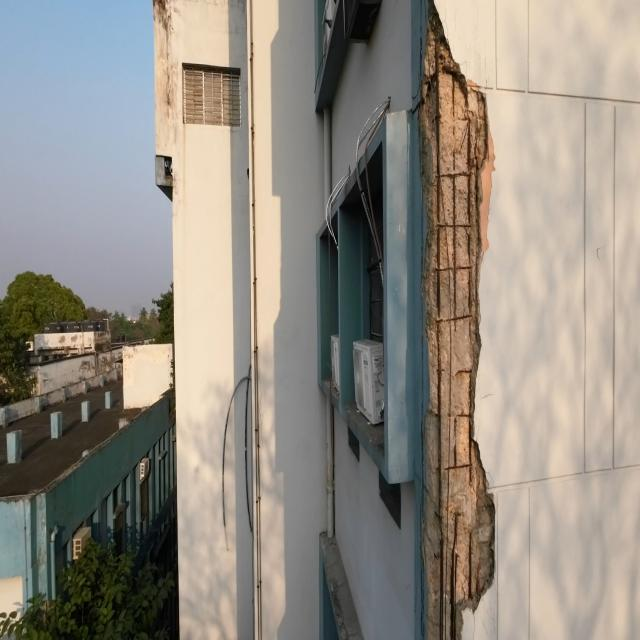Spalling: (395, 5, 512, 635)
